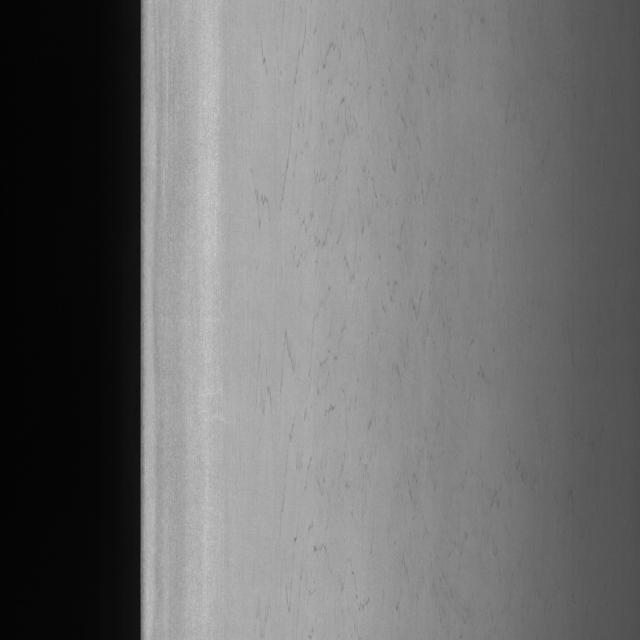inclusion: (247, 33, 443, 517)
